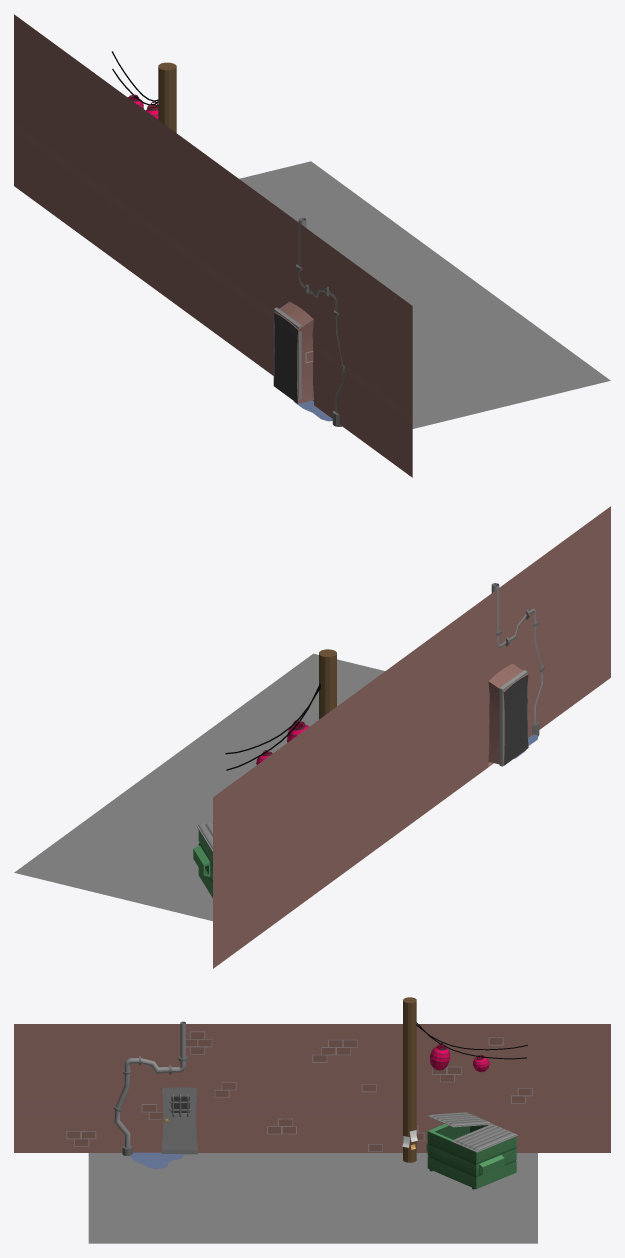
The model's file is env_alley01.fbx.
The picture shows the model from 3 angles, top to bottom: view 1: azimuth 30°, elevation 25°; view 2: azimuth 150°, elevation 25°; view 3: azimuth 270°, elevation 25°; orthographic projection. The views are drawn at different scales.
Visible parts, largest first — view 1: wall_REN, street_REN, telephonepole_REN, pipes_REN; view 2: wall_REN, street_REN, telephonepole_REN, pipes_REN, body_REN, door_REN; view 3: wall_REN, street_REN, body_REN, telephonepole_REN, door_REN, pipes_REN, lid_REN, openlid_REN, water_REN, lantern1.
Part boxes in pixels (x1,y1,x2,y2): wall_REN: (14, 14, 412, 477); street_REN: (239, 161, 610, 428); telephonepole_REN: (158, 62, 176, 132); pipes_REN: (296, 217, 344, 426); wall_REN: (213, 506, 610, 968); street_REN: (14, 653, 384, 921); telephonepole_REN: (319, 649, 336, 719); pipes_REN: (491, 583, 544, 735); body_REN: (193, 830, 212, 897); door_REN: (499, 670, 527, 766); wall_REN: (14, 1024, 610, 1154); street_REN: (88, 1153, 537, 1243); body_REN: (426, 1124, 516, 1189); telephonepole_REN: (403, 997, 416, 1162); door_REN: (162, 1087, 197, 1144); pipes_REN: (114, 1021, 187, 1155); lid_REN: (451, 1124, 517, 1152); openlid_REN: (427, 1112, 491, 1127); water_REN: (130, 1152, 184, 1168); lantern1: (430, 1043, 450, 1070).
Bounding box in the file's own units: 32.61 × 25.44 × 85.18.
